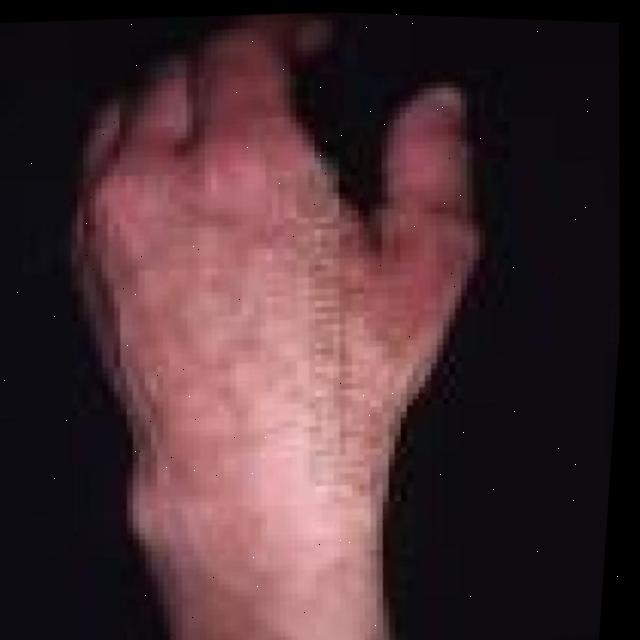Melasma: (114, 167, 413, 640)
